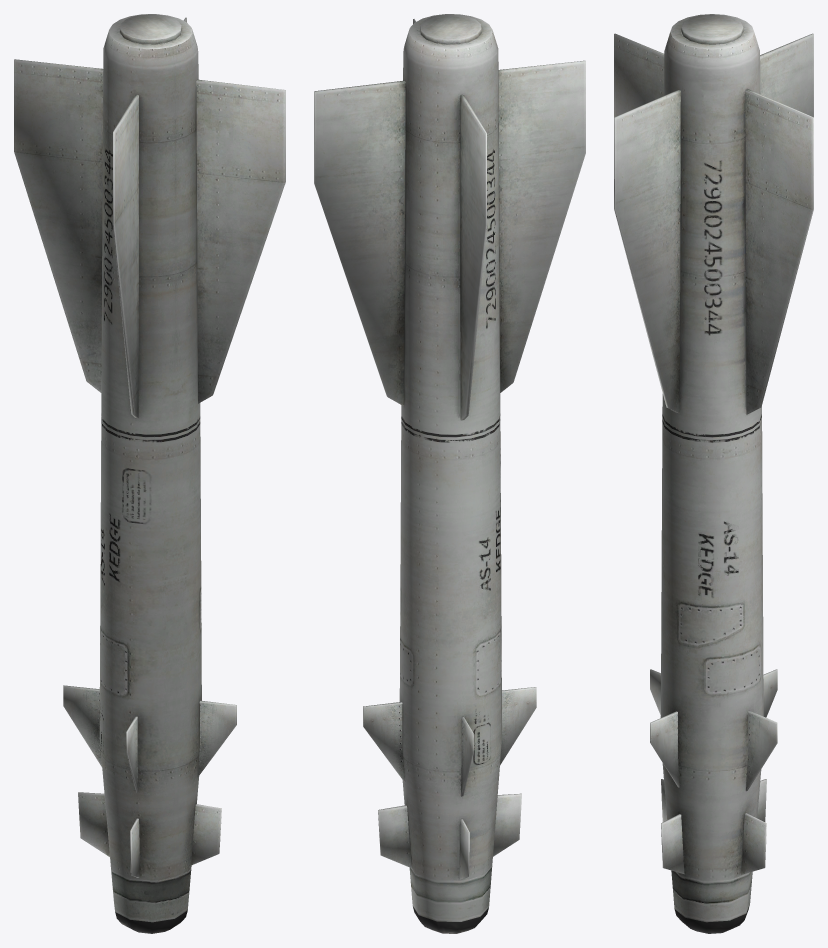
3 renders of one model, left to right at view 1: azimuth 30°, elevation 25°; view 2: azimuth 150°, elevation 25°; view 3: azimuth 270°, elevation 25°, orthographic.
Parts seen in each view (by area): view 1: Kh-29; view 2: Kh-29; view 3: Kh-29.
Boxes of the visible parts, x1,y1,x2,y2 form: Kh-29: (14, 14, 285, 933); Kh-29: (314, 14, 585, 933); Kh-29: (614, 14, 813, 933).
Bounding box in the file's own units: 0.482 × 2.4 × 0.482.
1 material, 1 textured.
